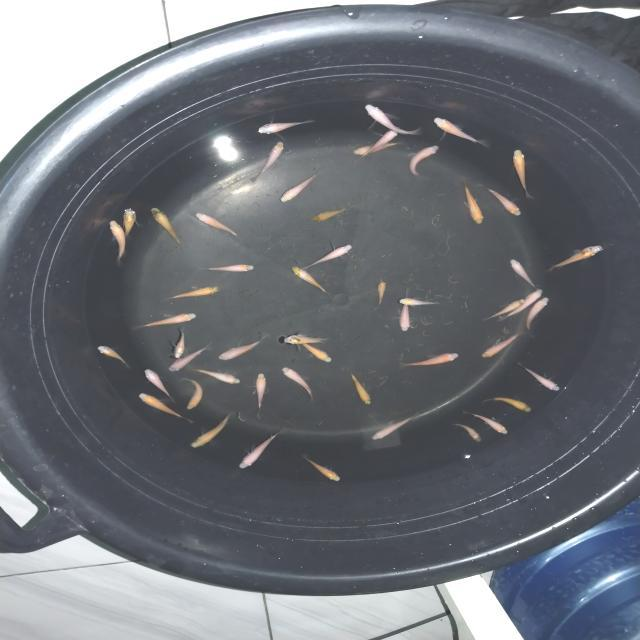nila: (359, 98, 422, 136), (136, 392, 194, 428), (238, 428, 284, 471), (369, 407, 422, 444), (431, 114, 486, 149), (147, 206, 187, 252), (547, 242, 602, 274), (214, 332, 268, 363), (190, 412, 234, 450), (276, 171, 323, 206), (194, 211, 247, 242), (502, 286, 546, 323), (457, 408, 510, 438), (283, 264, 329, 298), (517, 363, 563, 396), (478, 184, 524, 217), (168, 341, 210, 376), (302, 243, 356, 270), (508, 145, 534, 199), (478, 331, 524, 361), (139, 367, 177, 403), (252, 144, 290, 180), (302, 452, 344, 484), (255, 116, 320, 136), (278, 367, 314, 403), (458, 180, 484, 228), (408, 144, 440, 182), (360, 132, 400, 162), (480, 394, 534, 416), (480, 296, 526, 321), (292, 336, 334, 362), (399, 352, 462, 369), (526, 296, 552, 337), (507, 257, 541, 288), (108, 216, 128, 268), (138, 312, 199, 329), (177, 376, 204, 414), (160, 286, 223, 302), (194, 367, 241, 388), (349, 373, 376, 408), (251, 369, 269, 418), (92, 342, 128, 366), (352, 138, 400, 156), (312, 204, 353, 224), (452, 422, 483, 446), (396, 288, 412, 334), (170, 326, 187, 361), (283, 333, 328, 346), (202, 263, 255, 274), (121, 206, 138, 240), (394, 296, 440, 308), (375, 276, 386, 310)
